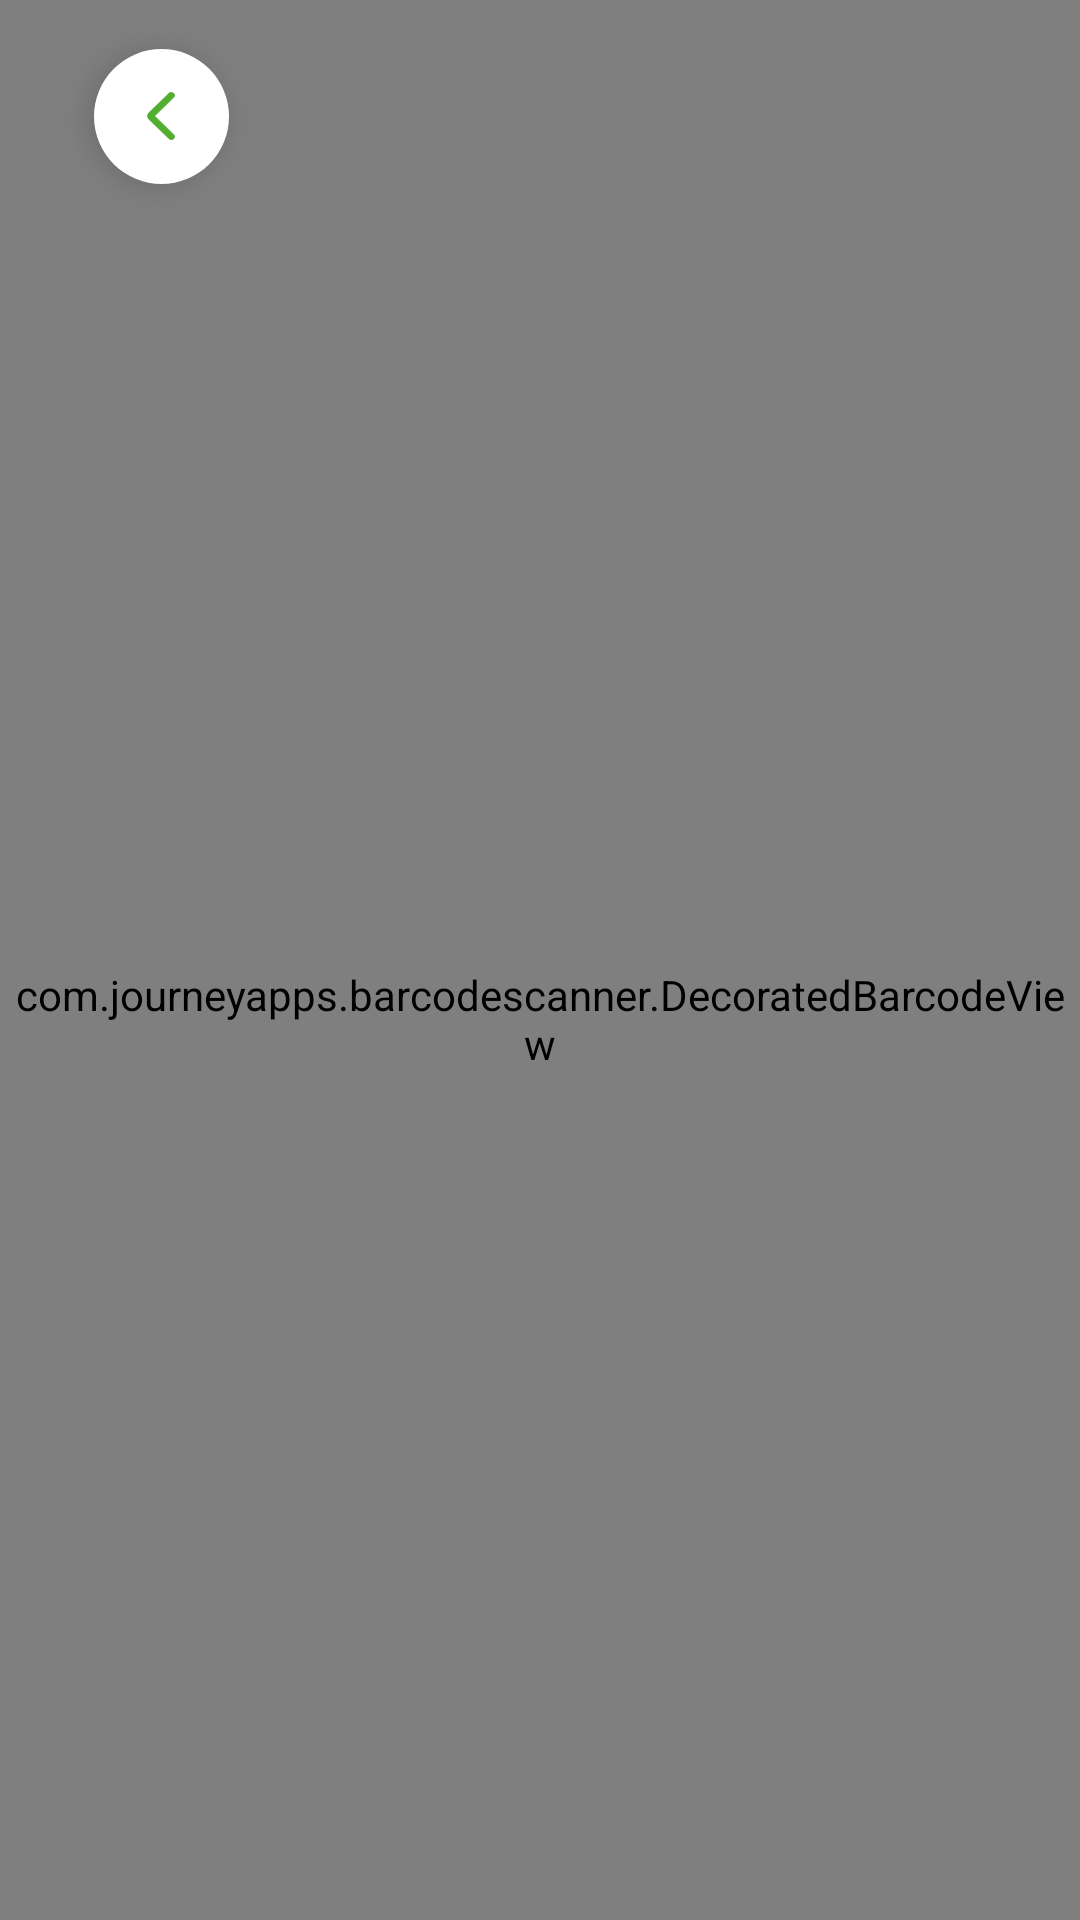

Icon click points for this 1080w x 1920h phone screenshot, format [x,y]:
back: [161,116]
